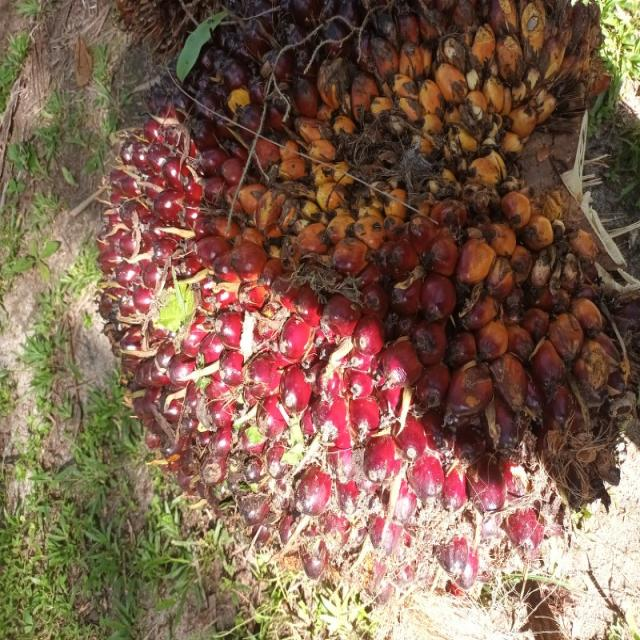fraksi 1: (75, 134, 480, 640)
